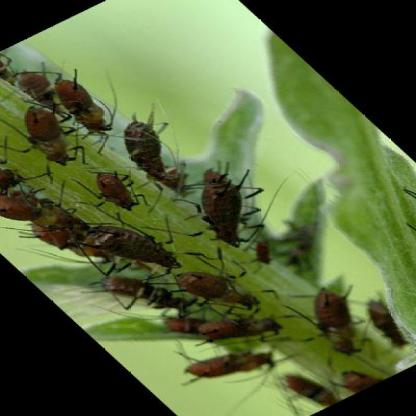uroleucon compositae: (125, 104, 179, 183), (201, 170, 243, 247), (57, 80, 117, 132)
